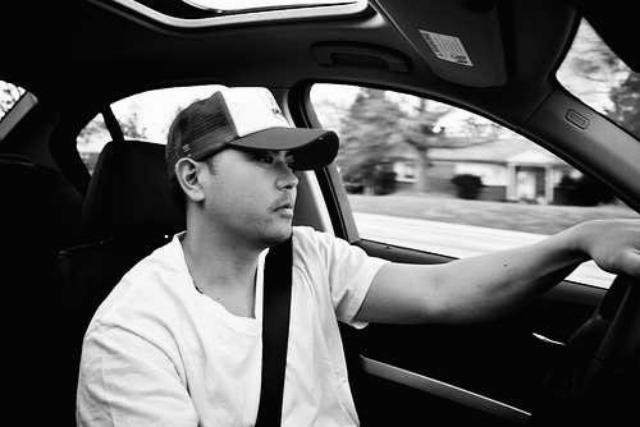Seatbelt: (249, 228, 297, 427)
